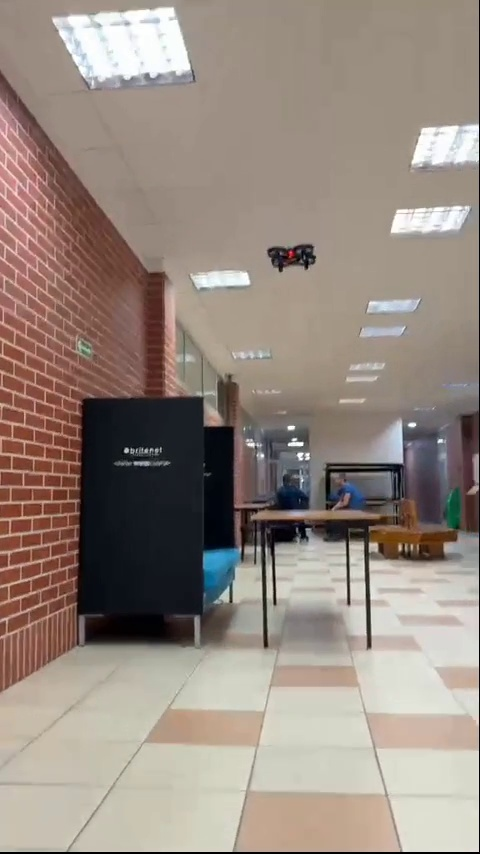drone: (267, 244, 317, 275)
no vest: (321, 470, 367, 514), (276, 472, 306, 506)
